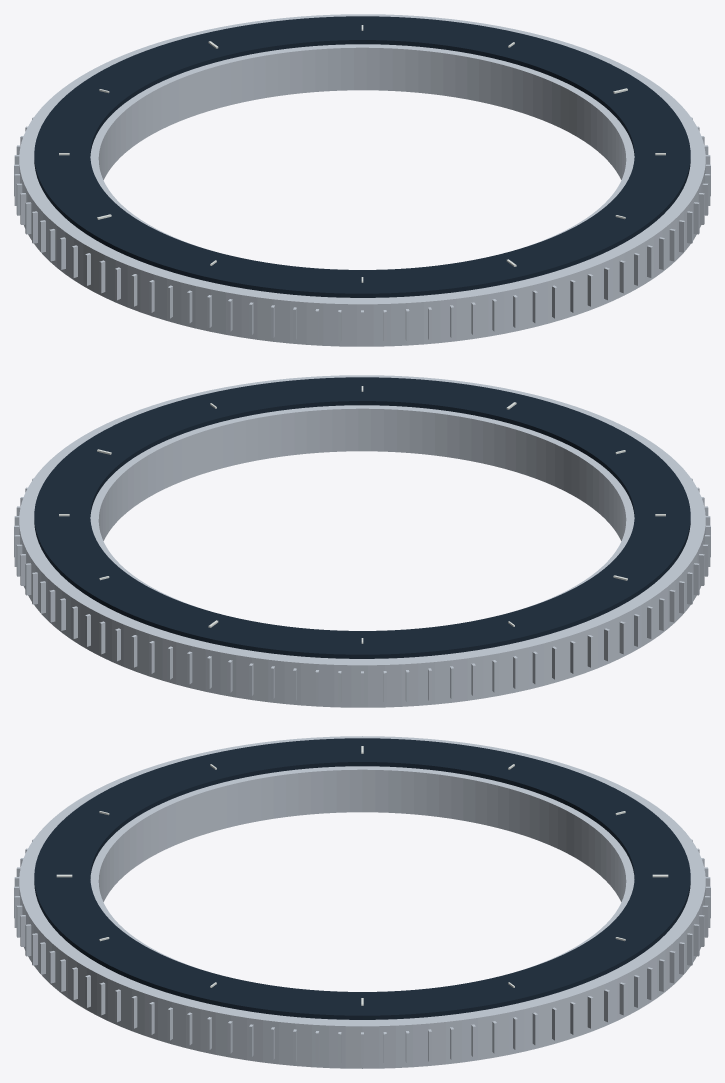
The model's file is bezel-tachymeter-fixed-42.glb.
The picture shows the model from 3 angles, top to bottom: view 1: azimuth 30°, elevation 25°; view 2: azimuth 150°, elevation 25°; view 3: azimuth 270°, elevation 25°; orthographic projection.
Parts seen in each view (by area): view 1: DD_BEZEL_CARRIER, DD_BEZEL_INSERT; view 2: DD_BEZEL_CARRIER, DD_BEZEL_INSERT; view 3: DD_BEZEL_CARRIER, DD_BEZEL_INSERT.
Boxes of the visible parts, x1,y1,x2,y2 form: DD_BEZEL_CARRIER: [19, 14, 705, 346]; DD_BEZEL_INSERT: [34, 16, 690, 297]; DD_BEZEL_CARRIER: [19, 375, 705, 707]; DD_BEZEL_INSERT: [34, 377, 690, 658]; DD_BEZEL_CARRIER: [19, 736, 705, 1068]; DD_BEZEL_INSERT: [34, 738, 690, 1019].
Size of the model in its own units: 41.62 by 3.19 by 41.62.
